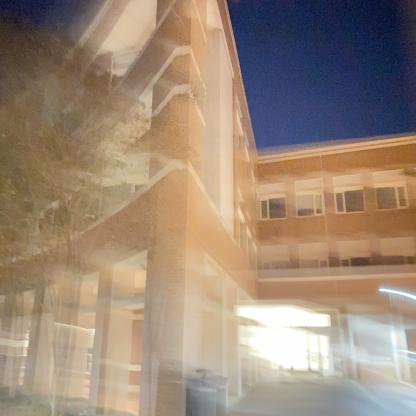eb2: (13, 27, 415, 383)
